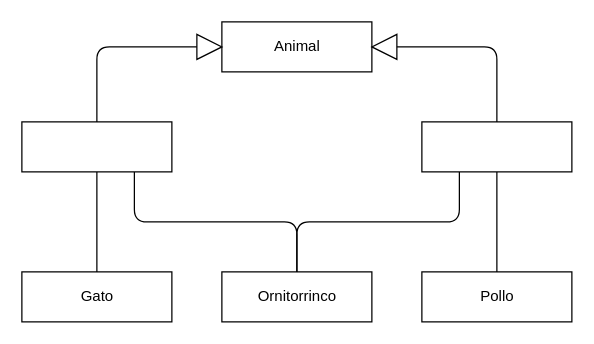
This 594x344 diagram has some shape labels left out. Each missing label, with the centre of its shape:
Mamífero: (x=96, y=146)
Oviparo: (x=496, y=146)
